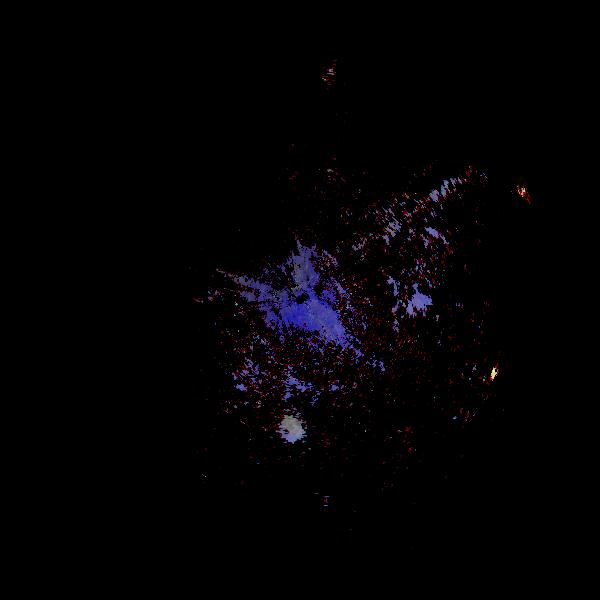roost: (297, 44, 342, 89), (281, 419, 302, 440), (308, 492, 329, 513)
